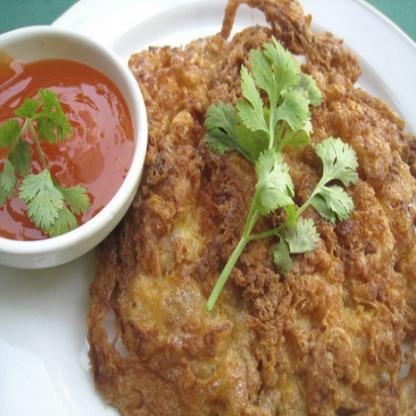Omelette: (93, 21, 416, 415)
